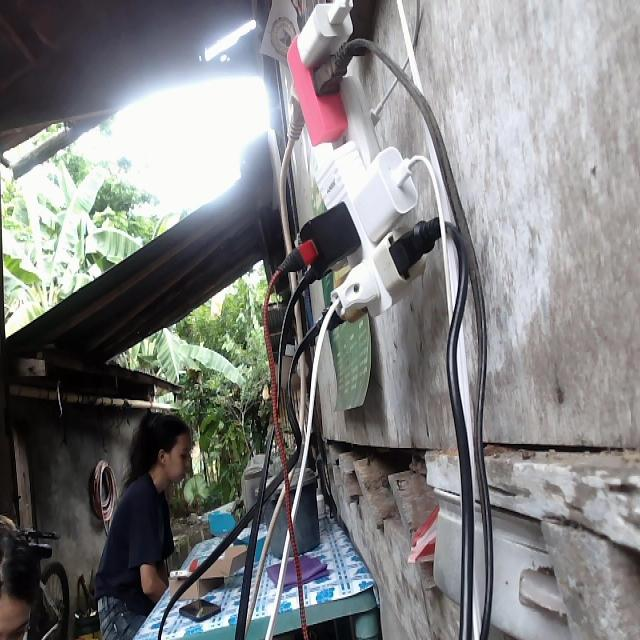-: (260, 0, 477, 328)
